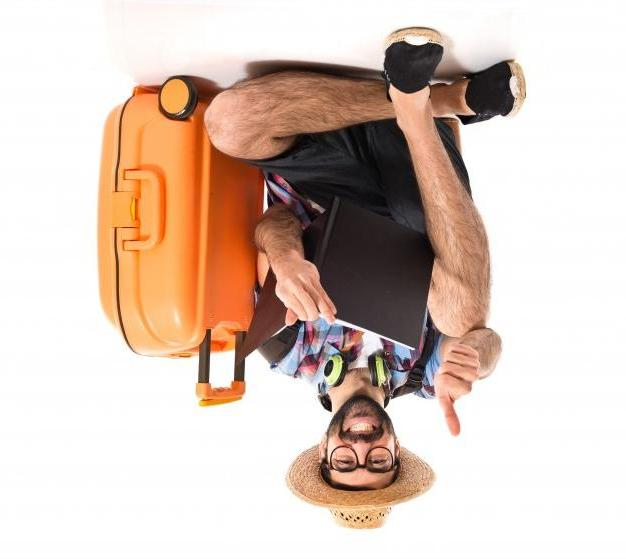thumbsdown: (436, 343, 481, 438)
